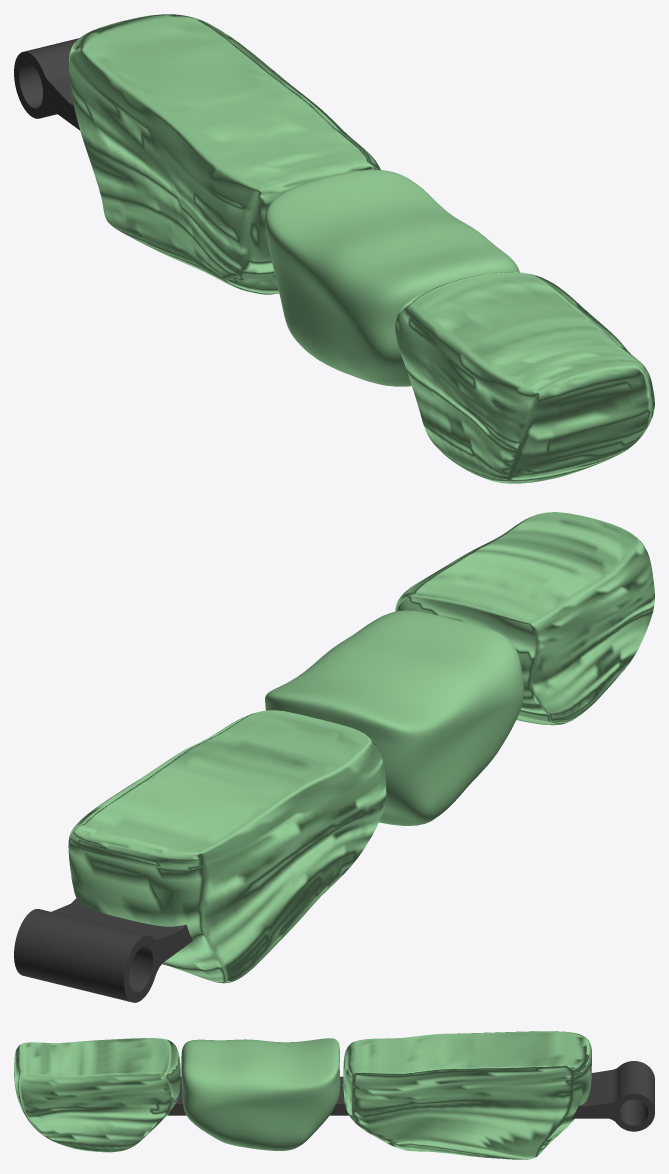
The model's file is dedo.glb.
3 renders of one model, top to bottom at view 1: azimuth 30°, elevation 25°; view 2: azimuth 150°, elevation 25°; view 3: azimuth 270°, elevation 25°, orthographic. The views are drawn at different scales.
Parts seen in each view (by area): view 1: Body12, Body10, Body11, interfalanje 1; view 2: Body12, Body11, Body10, interfalanje 1; view 3: Body12, Body10, Body11, interfalanje 1, interfalange 2, interfalange 3.
Boxes of the visible parts, bbox=[...] form: Body12: bbox=[69, 14, 380, 294]; Body10: bbox=[395, 272, 654, 483]; Body11: bbox=[265, 169, 519, 386]; interfalanje 1: bbox=[14, 38, 79, 130]; Body12: bbox=[68, 710, 386, 983]; Body11: bbox=[265, 610, 523, 825]; Body10: bbox=[395, 512, 654, 725]; interfalanje 1: bbox=[14, 898, 192, 1002]; Body12: bbox=[343, 1031, 591, 1159]; Body10: bbox=[14, 1038, 180, 1152]; Body11: bbox=[181, 1038, 340, 1150]; interfalanje 1: bbox=[571, 1061, 654, 1131]; interfalange 2: bbox=[329, 1076, 348, 1115]; interfalange 3: bbox=[167, 1077, 186, 1115].
Bounding box in the file's own units: 0.0177 × 0.0174 × 0.0993.
